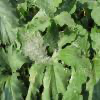Squash Powdery mildew leaf: (16, 25, 94, 99), (0, 0, 25, 47), (26, 0, 63, 17), (54, 10, 79, 31), (25, 15, 51, 33)
